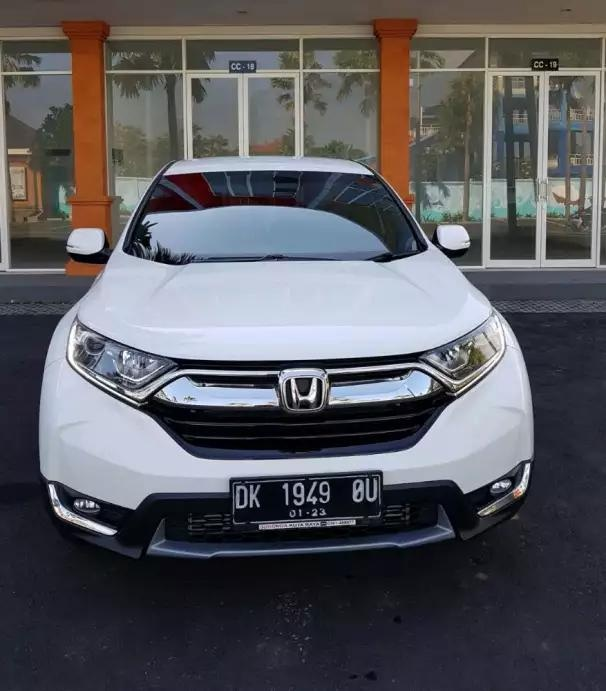plate: (232, 477, 386, 520)
